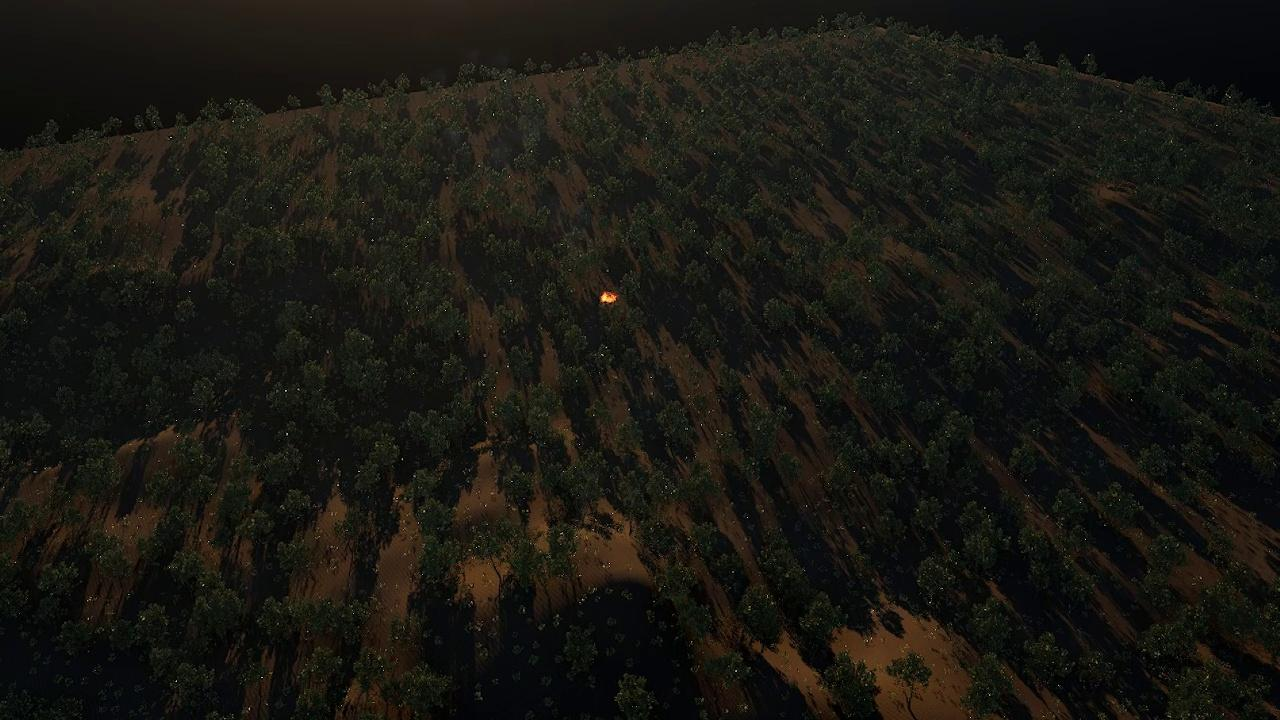fire: (602, 289, 621, 303)
